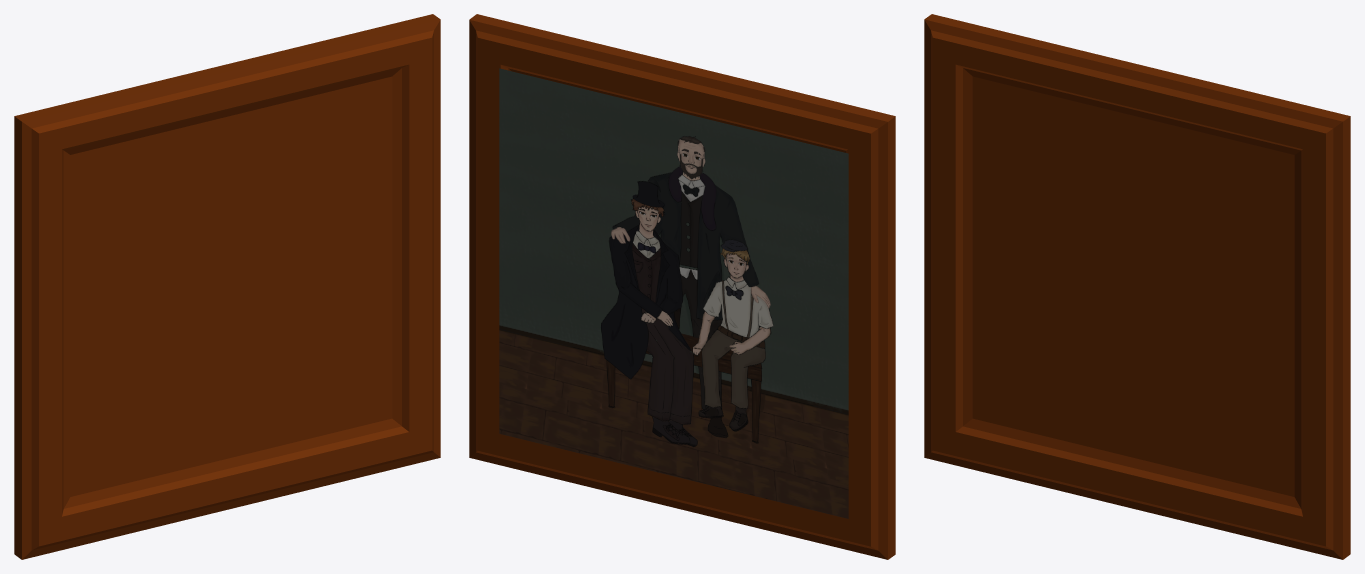
File: quadroFamiliaComImagem.fbx
3 views of the same model, side by side, from view 1: azimuth 30°, elevation 25°; view 2: azimuth 150°, elevation 25°; view 3: azimuth 330°, elevation 25° (orthographic).
Visible parts, largest first — view 1: quadro 2; view 2: Plane, quadro 2; view 3: quadro 2.
Boxes of the visible parts, x1,y1,x2,y2 form: quadro 2: (14, 14, 440, 559); Plane: (499, 68, 848, 518); quadro 2: (469, 14, 895, 559); quadro 2: (924, 14, 1350, 559).
Size of the model in its own units: 30 by 30 by 2.
